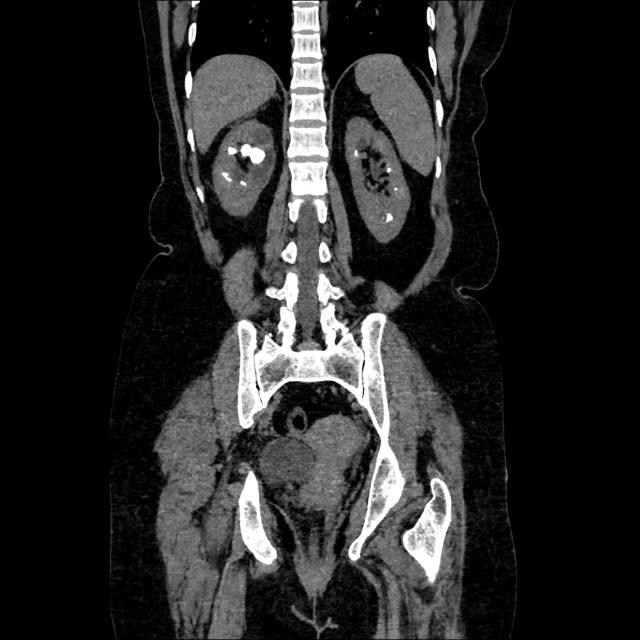kidney: (343, 113, 411, 248), (212, 118, 276, 220)
stone: (235, 141, 257, 161), (253, 146, 264, 167), (380, 209, 394, 222)
